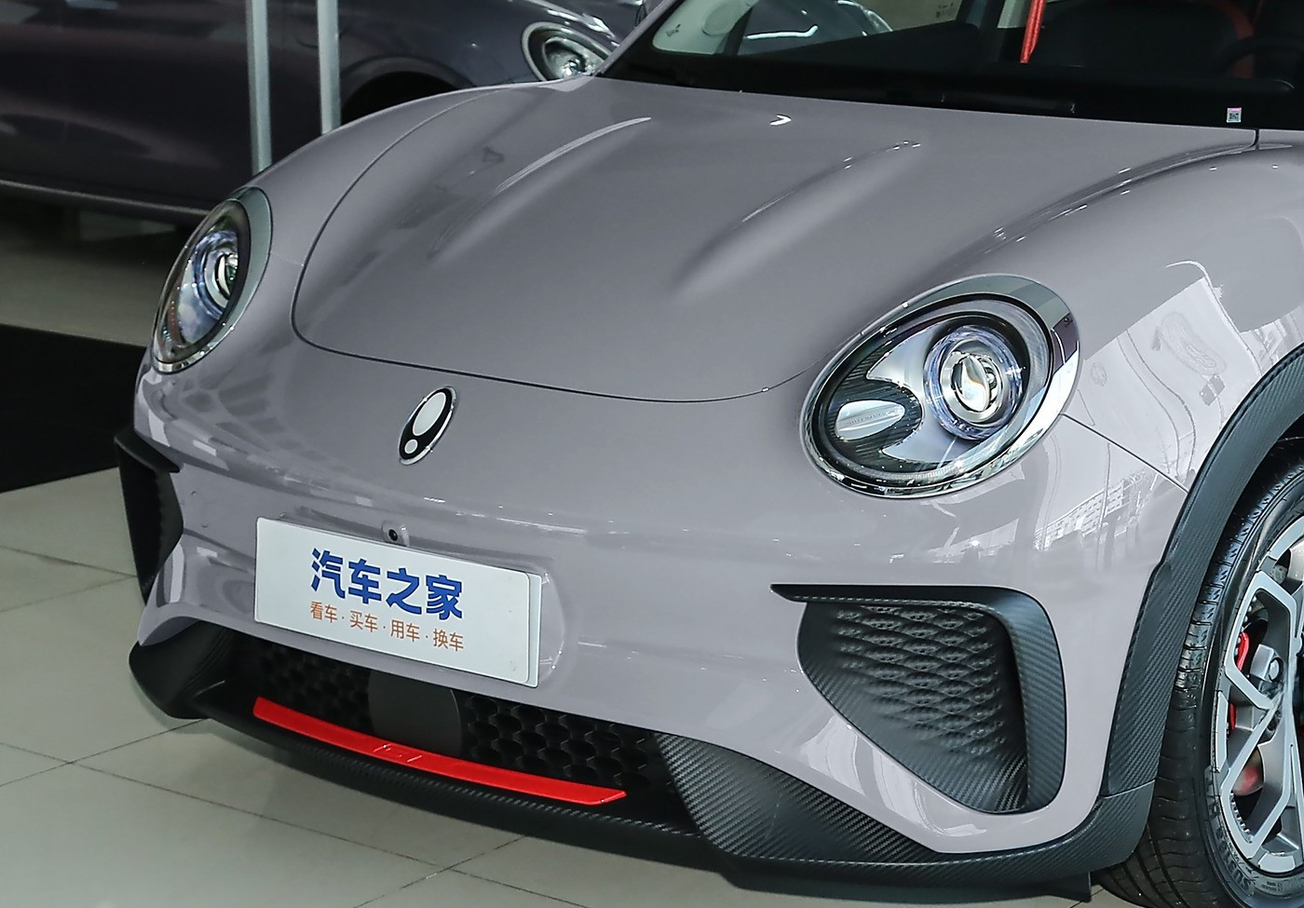ORA: (399, 386, 455, 465)
